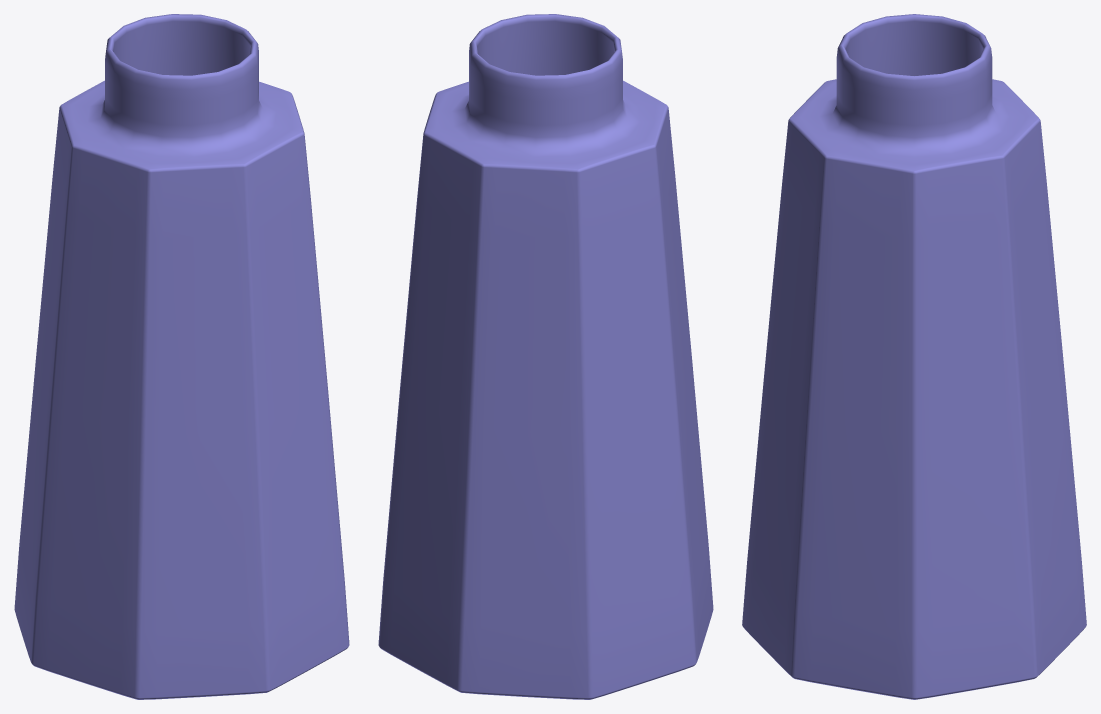
File: uploads_files_1923420_Salt+Shakers_Body.FBX
3 views of the same model, side by side, from view 1: azimuth 30°, elevation 25°; view 2: azimuth 150°, elevation 25°; view 3: azimuth 270°, elevation 25° (orthographic).
Parts seen in each view (by area): view 1: uploads_files_1923420_Salt+Shakers_Body; view 2: uploads_files_1923420_Salt+Shakers_Body; view 3: uploads_files_1923420_Salt+Shakers_Body.
Part boxes in pixels (x1,y1,x2,y2): uploads_files_1923420_Salt+Shakers_Body: [14, 14, 349, 699]; uploads_files_1923420_Salt+Shakers_Body: [378, 14, 713, 699]; uploads_files_1923420_Salt+Shakers_Body: [742, 14, 1086, 699].
Size of what is drawn, in the model's own units: 2.26 by 2.26 by 4.23.
